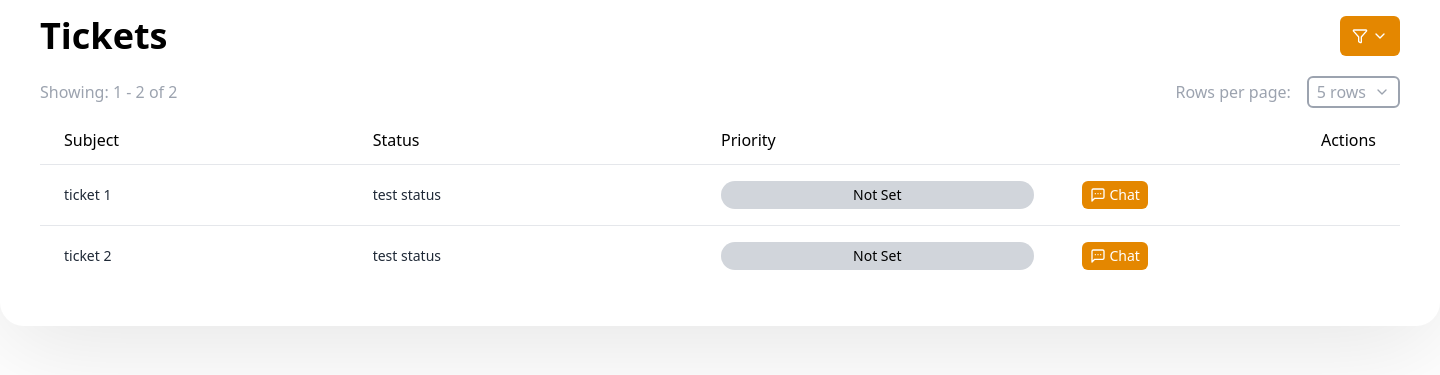
Scenario: TicketsCard - rendering › TicketsCard - Sorting › Tickets are correctly sorted by subject when subject is clicked
Expected: the text "ticket 1" is shown, top-left (40, 164), bottom-right (349, 226)
Expected: the text "ticket 2" is shown, top-left (40, 226), bottom-right (349, 286)
What coordinates should you click on to do the following:
click the button "Subject"
I would click on:
 (92, 140)
Its box is top-left (64, 128), bottom-right (325, 152).
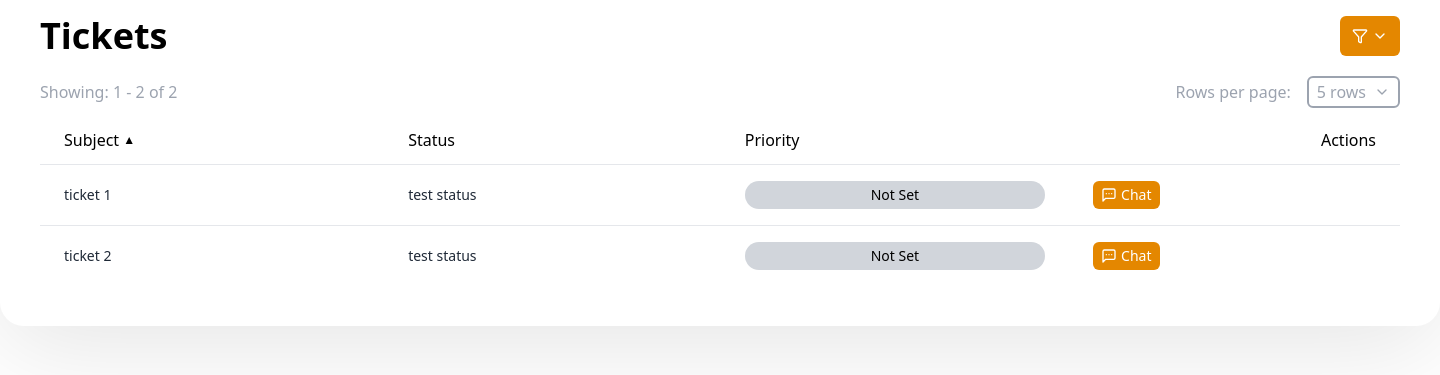
Expected: the text "ticket 1" is shown, top-left (40, 164), bottom-right (384, 226)
Now the button "Subject ▲" is shown
What coordinates should you click on to do the following:
click the button "Subject ▲"
I would click on:
 (92, 140)
Its box is top-left (64, 128), bottom-right (360, 152).
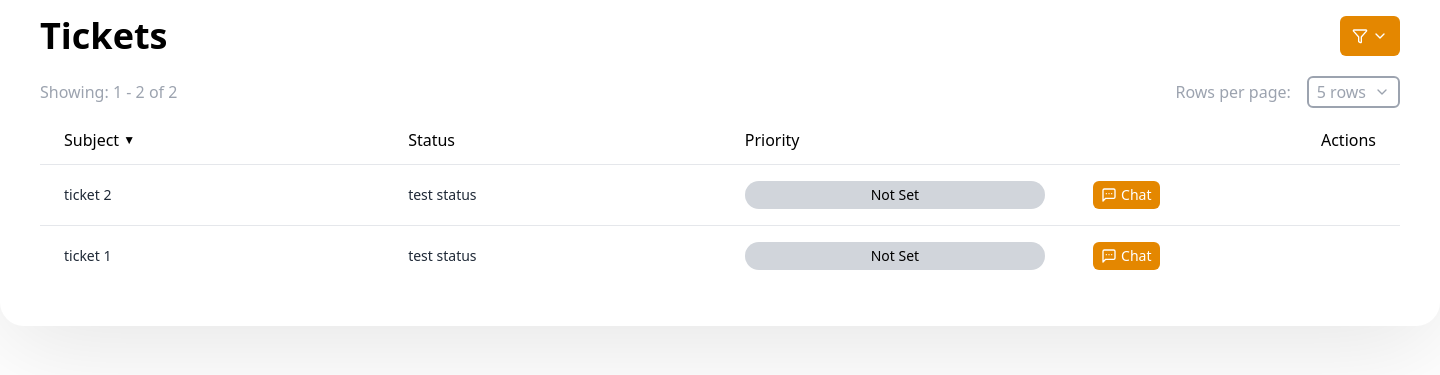
Expected: the text "ticket 2" is shown, top-left (40, 164), bottom-right (384, 226)
Now the button "Subject ▼" is shown, box top-left (64, 128), bottom-right (360, 152)
